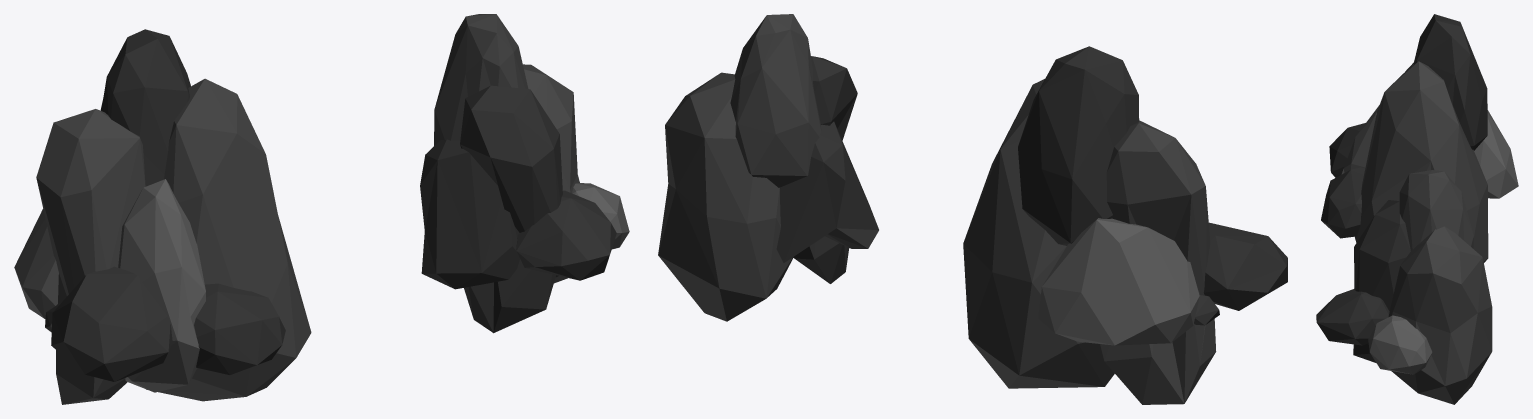
Rendered from pile-rocks.fbx.
3 views of the same model, side by side, from view 1: azimuth 30°, elevation 25°; view 2: azimuth 150°, elevation 25°; view 3: azimuth 270°, elevation 25° (orthographic). The views are drawn at different scales.
Visible parts, largest first — view 1: pile-rocks-1, pile-rocks-14, pile-rocks-6, pile-rocks-2, pile-rocks-13, pile-rocks-10, pile-rocks-12, pile-rocks-5, pile-rocks-11, pile-rocks-3, pile-rocks-7, pile-rocks-9 (+1 smaller); view 2: pile-rocks-7, pile-rocks-1, pile-rocks-12, pile-rocks-14, pile-rocks-9, pile-rocks-5, pile-rocks-2, pile-rocks-10, pile-rocks-6, pile-rocks-8; view 3: pile-rocks-7, pile-rocks-1, pile-rocks-12, pile-rocks-6, pile-rocks-5, pile-rocks-3, pile-rocks-4, pile-rocks-11, pile-rocks-9, pile-rocks-13, pile-rocks-10.
Boxes of the visible parts, x1=… form: pile-rocks-1: x1=146, y1=78, x2=311, y2=401; pile-rocks-14: x1=36, y1=109, x2=145, y2=404; pile-rocks-6: x1=460, y1=85, x2=562, y2=333; pile-rocks-2: x1=420, y1=139, x2=519, y2=289; pile-rocks-13: x1=118, y1=179, x2=205, y2=392; pile-rocks-10: x1=51, y1=266, x2=172, y2=381; pile-rocks-12: x1=100, y1=29, x2=190, y2=186; pile-rocks-5: x1=434, y1=14, x2=528, y2=145; pile-rocks-11: x1=194, y1=283, x2=285, y2=374; pile-rocks-3: x1=516, y1=190, x2=616, y2=280; pile-rocks-7: x1=523, y1=64, x2=579, y2=283; pile-rocks-9: x1=14, y1=208, x2=58, y2=319; pile-rocks-7: x1=658, y1=72, x2=793, y2=321; pile-rocks-1: x1=963, y1=79, x2=1114, y2=388; pile-rocks-12: x1=1018, y1=46, x2=1139, y2=245; pile-rocks-14: x1=1100, y1=120, x2=1216, y2=404; pile-rocks-9: x1=1038, y1=218, x2=1199, y2=345; pile-rocks-5: x1=730, y1=14, x2=821, y2=187; pile-rocks-2: x1=776, y1=121, x2=878, y2=262; pile-rocks-10: x1=1203, y1=222, x2=1287, y2=310; pile-rocks-6: x1=793, y1=56, x2=857, y2=283; pile-rocks-8: x1=1194, y1=294, x2=1219, y2=325; pile-rocks-7: x1=1388, y1=226, x2=1492, y2=404; pile-rocks-1: x1=1355, y1=61, x2=1488, y2=262; pile-rocks-12: x1=1413, y1=14, x2=1487, y2=150; pile-rocks-6: x1=1353, y1=200, x2=1410, y2=362; pile-rocks-5: x1=1399, y1=170, x2=1473, y2=250; pile-rocks-3: x1=1316, y1=289, x2=1389, y2=345; pile-rocks-4: x1=1368, y1=315, x2=1432, y2=374; pile-rocks-11: x1=1321, y1=167, x2=1365, y2=238; pile-rocks-9: x1=1474, y1=110, x2=1518, y2=198; pile-rocks-13: x1=1341, y1=105, x2=1379, y2=174; pile-rocks-10: x1=1329, y1=123, x2=1365, y2=177.
Size of the model in its own units: 679 by 397 by 282.
